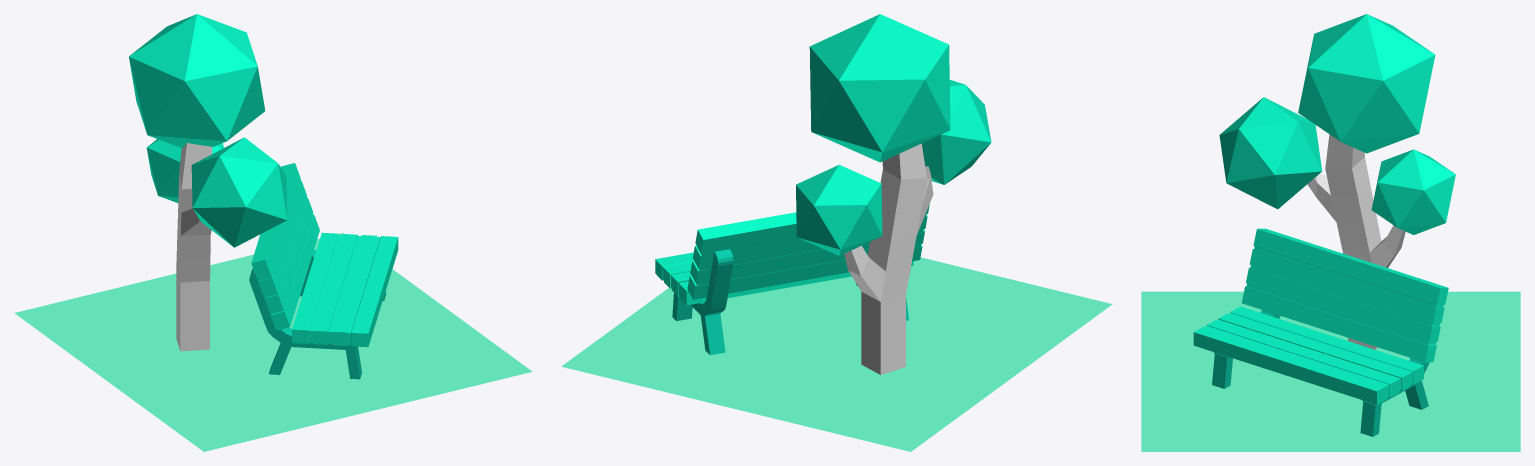
Rendered from small park_green.fbx.
The picture shows the model from 3 angles, left to right: view 1: azimuth 30°, elevation 25°; view 2: azimuth 150°, elevation 25°; view 3: azimuth 270°, elevation 25°; orthographic projection. The views are drawn at different scales.
Visible parts, largest first — view 1: Plane, Icosphere.007, Cube.023; view 2: Plane, Icosphere.007, Cube.023; view 3: Plane, Icosphere.007, Cube.023.
Boxes of the visible parts, x1,y1,x2,y2 form: Plane: (14, 233, 532, 451); Icosphere.007: (129, 14, 287, 351); Cube.023: (249, 163, 398, 379); Plane: (561, 257, 1112, 451); Icosphere.007: (796, 14, 991, 374); Cube.023: (655, 204, 929, 355); Plane: (1141, 291, 1520, 451); Icosphere.007: (1219, 14, 1455, 349); Cube.023: (1193, 228, 1448, 436).
Size of the model in its own units: 500 by 499 by 500.
